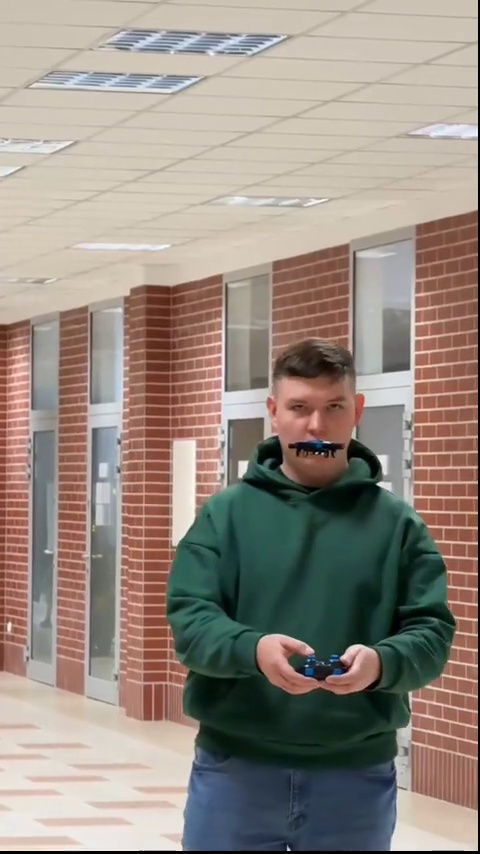drone: (290, 440, 342, 459)
no vest: (160, 344, 467, 854)
